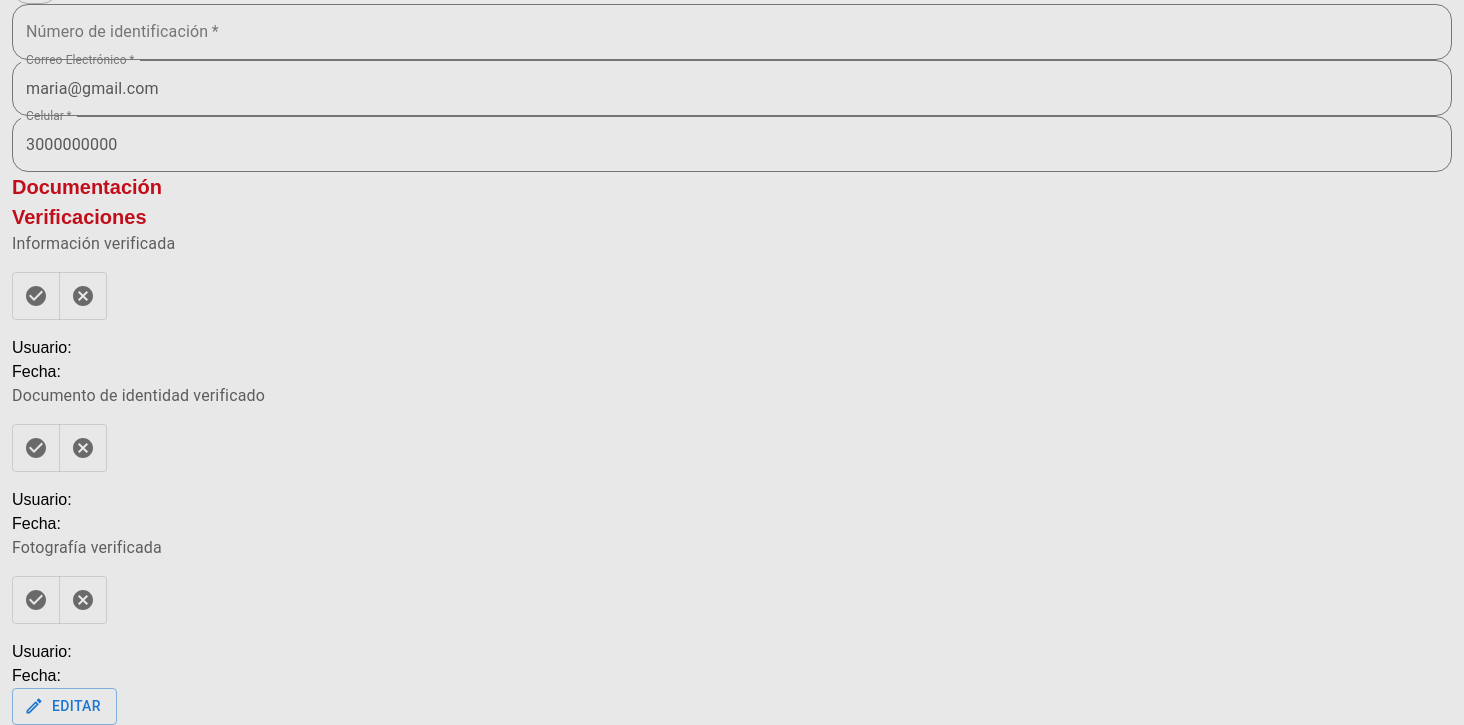
Test: FormularioDatos › cambia de editar a guardar
The image size is (1464, 725).
(page scrolled)
Click the button "Editar".
click(64, 706)  # box [12,688,117,724]
(page scrolled)
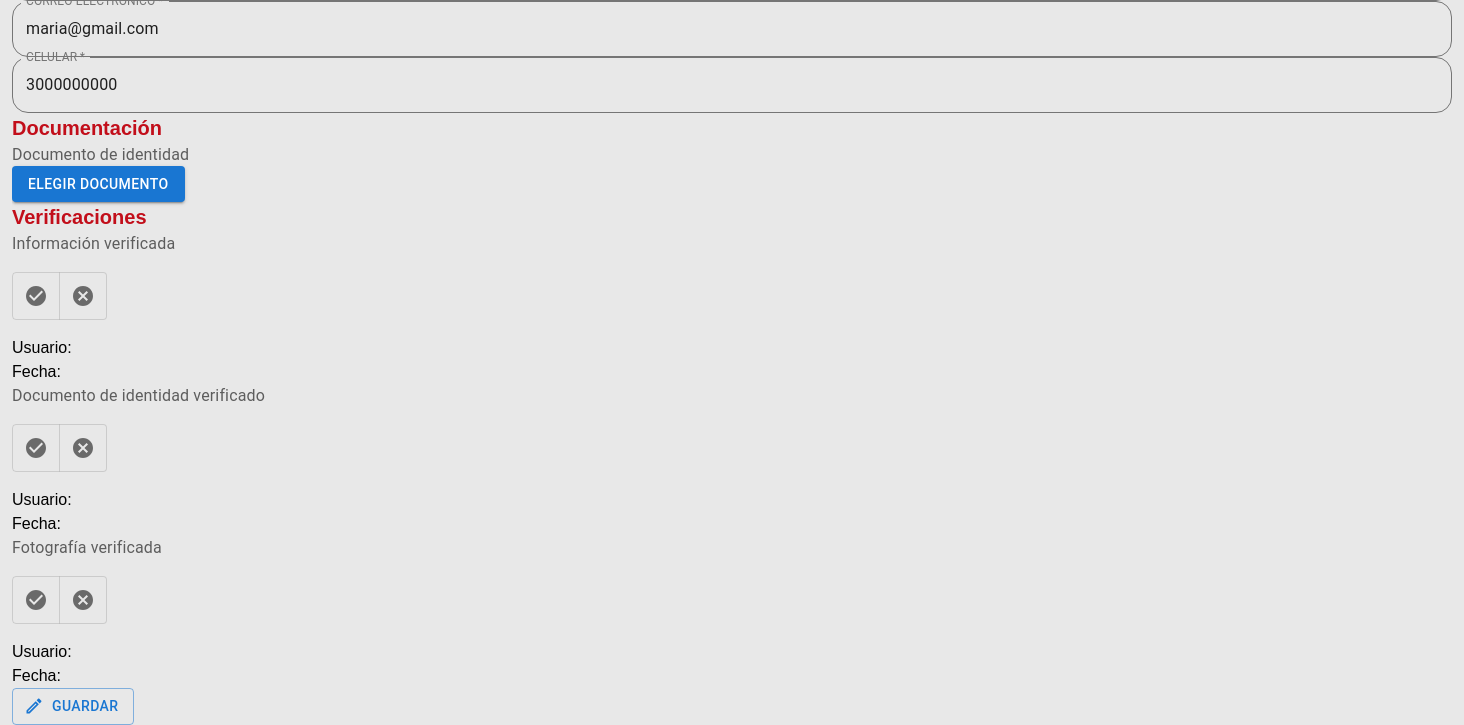
Check: the button "Guardar" is shown, box [12,688,134,724]
